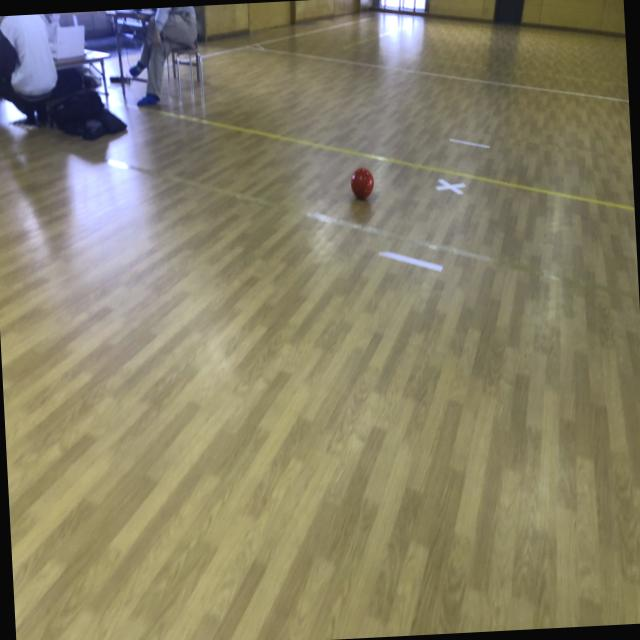red_ball: (350, 164, 375, 200)
